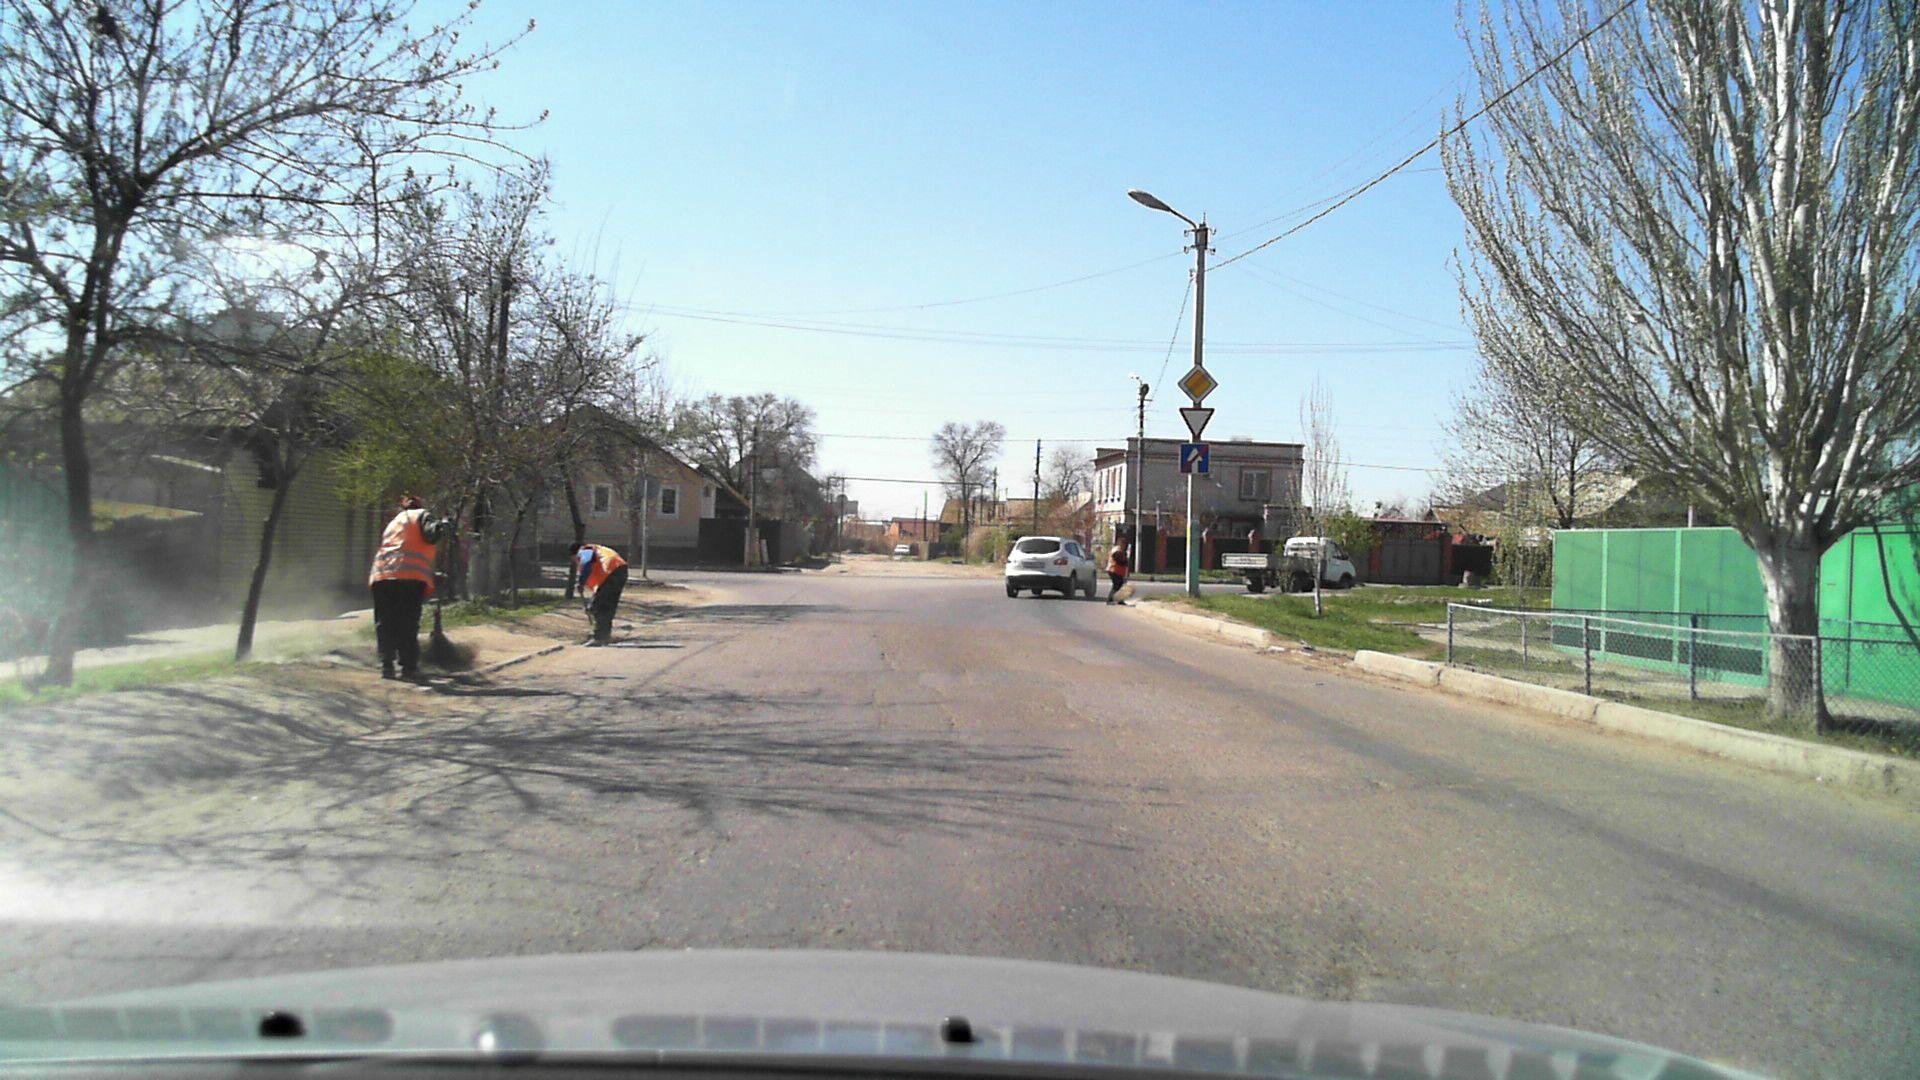2_2: (1175, 363, 1221, 404)
2_4: (1180, 406, 1213, 440)
5_6: (1180, 443, 1208, 473)
